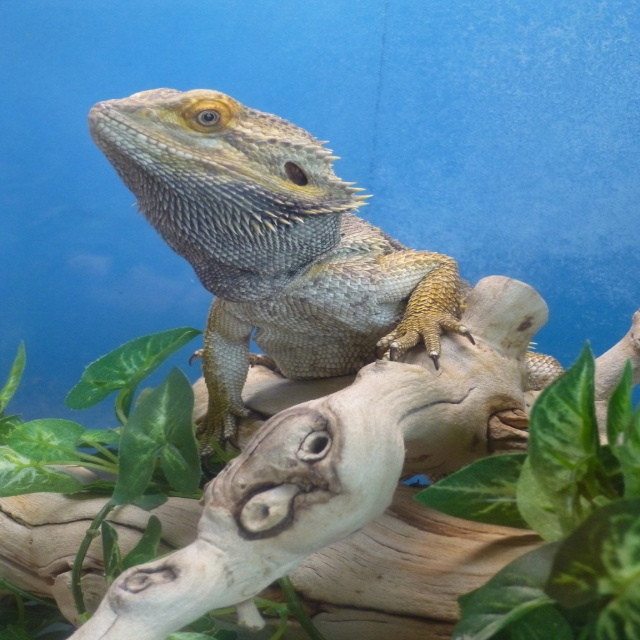Lizard: (88, 82, 552, 448)
